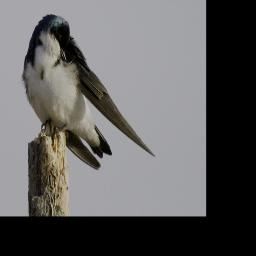Swallow: (20, 12, 155, 172)
